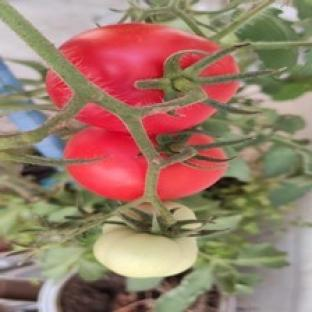Tomato: (60, 24, 220, 107), (65, 127, 147, 200), (94, 225, 197, 278)
